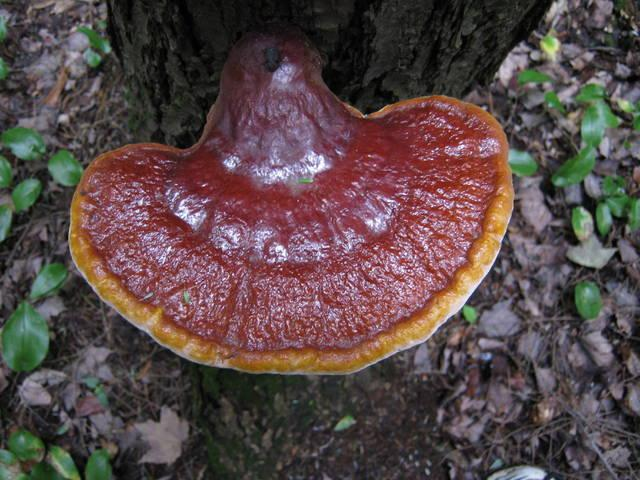Non-edible Mushroom: (66, 23, 515, 377)
